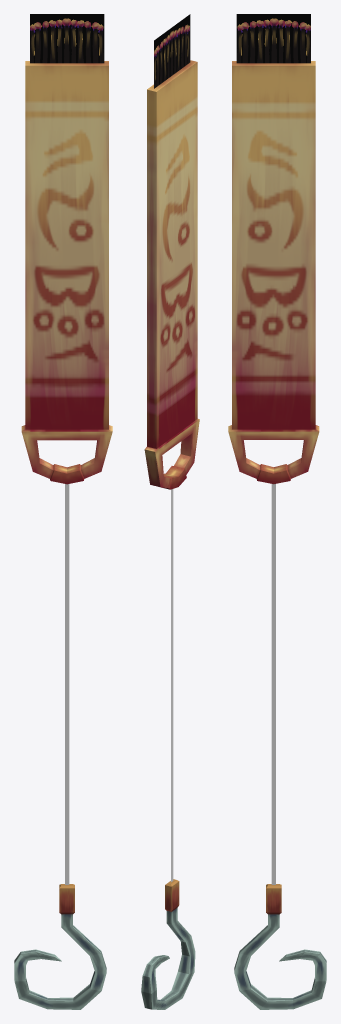
The model's file is banner.fbx.
3 views of the same model, side by side, from view 1: azimuth 90°, elevation 25°; view 2: azimuth 150°, elevation 25°; view 3: azimuth 270°, elevation 25° (orthographic).
Parts seen in each view (by area): view 1: banner, strings, hook, string; view 2: banner, hook, strings, string; view 3: banner, strings, hook, string.
Boxes of the visible parts, bbox=[...] form: banner: bbox=[21, 61, 112, 484]; strings: bbox=[30, 14, 104, 63]; hook: bbox=[14, 884, 106, 1009]; string: bbox=[65, 484, 69, 884]; banner: bbox=[144, 60, 199, 489]; hook: bbox=[141, 879, 195, 1009]; strings: bbox=[154, 14, 190, 88]; string: bbox=[171, 489, 173, 881]; banner: bbox=[228, 61, 319, 484]; strings: bbox=[236, 14, 310, 63]; hook: bbox=[234, 884, 326, 1009]; string: bbox=[271, 484, 275, 884].
Bounding box in the file's own units: 36.46 × 2622 × 235.
